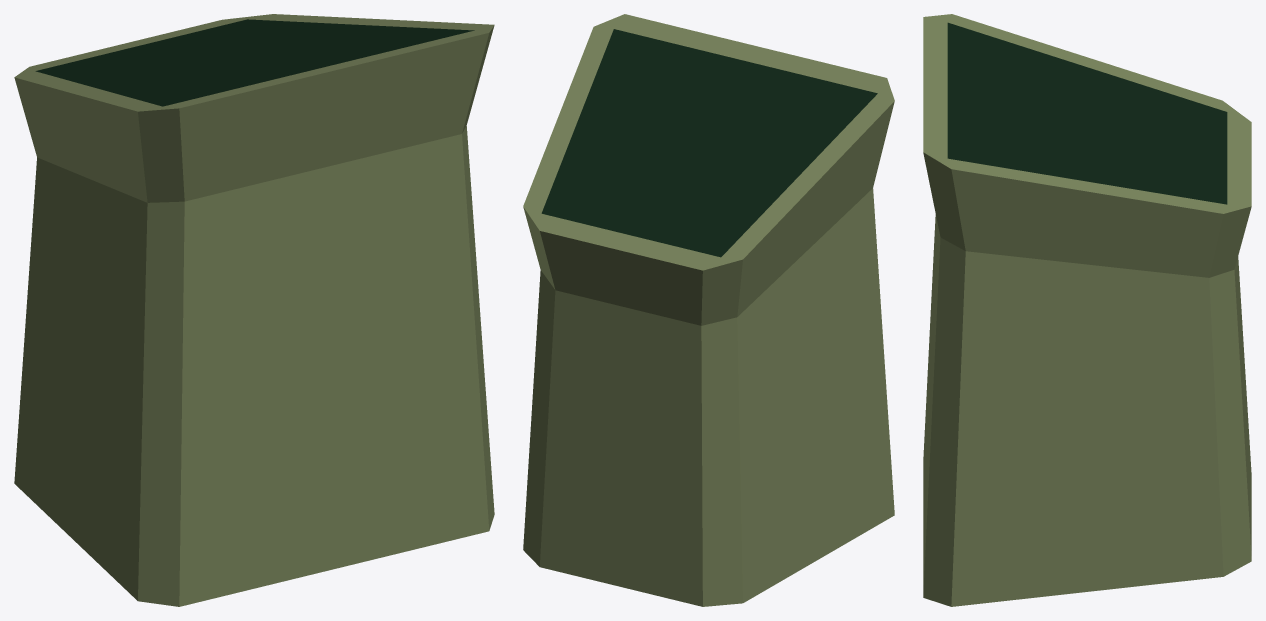
The model's file is bin 1 hecka.fbx.
3 views of the same model, side by side, from view 1: azimuth 30°, elevation 25°; view 2: azimuth 150°, elevation 25°; view 3: azimuth 270°, elevation 25° (orthographic). The views are drawn at different scales.
Parts seen in each view (by area): view 1: main bin; view 2: main bin; view 3: main bin.
Boxes of the visible parts, bbox=[...] form: main bin: bbox=[14, 14, 494, 606]; main bin: bbox=[523, 14, 894, 606]; main bin: bbox=[923, 14, 1251, 606].
Bounding box in the file's own units: 97.23 × 130 × 86.89.
